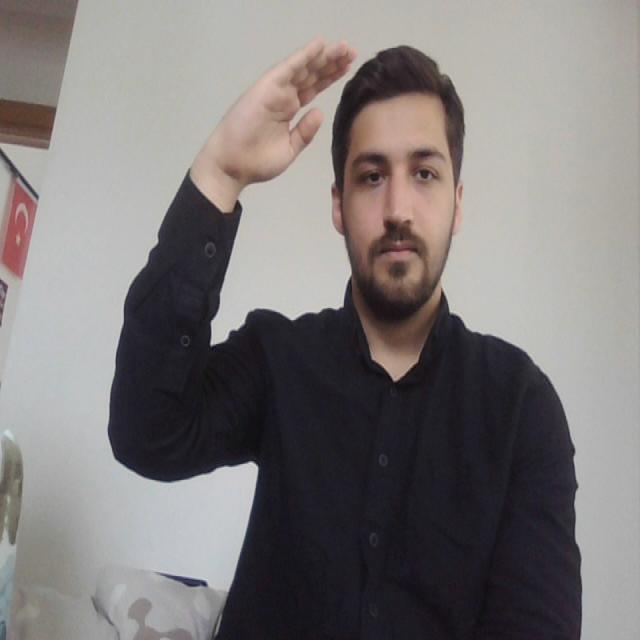Merhaba: (210, 22, 369, 233)
